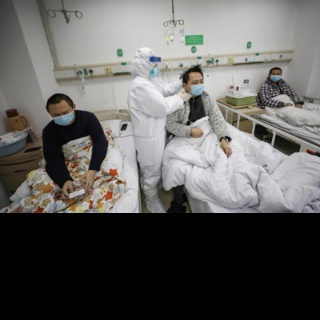with_mask: (49, 108, 73, 126), (188, 77, 205, 98), (149, 63, 160, 80), (271, 71, 281, 81)
